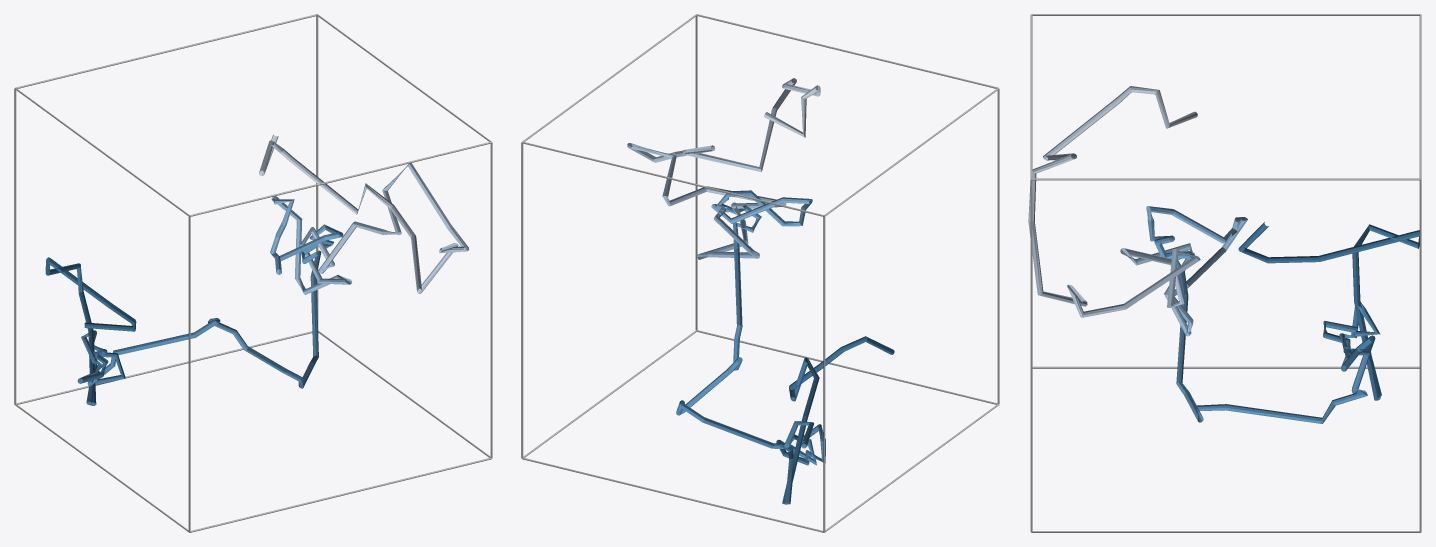
The picture shows the model from 3 angles, left to right: view 1: azimuth 30°, elevation 25°; view 2: azimuth 150°, elevation 25°; view 3: azimuth 270°, elevation 25°; orthographic projection. The views are drawn at different scales.
Parts seen in each view (by area): view 1: geometry_0, geometry_1; view 2: geometry_0, geometry_1; view 3: geometry_0, geometry_1.
Boxes of the visible parts, <box> form: geometry_0: <box>45,134,469,405</box>; geometry_1: <box>14,14,492,532</box>; geometry_0: <box>627,78,894,504</box>; geometry_1: <box>521,14,999,532</box>; geometry_0: <box>1028,86,1419,423</box>; geometry_1: <box>1030,14,1421,532</box>.
Bounding box in the file's own units: 0.3026 × 0.3031 × 0.3033.
